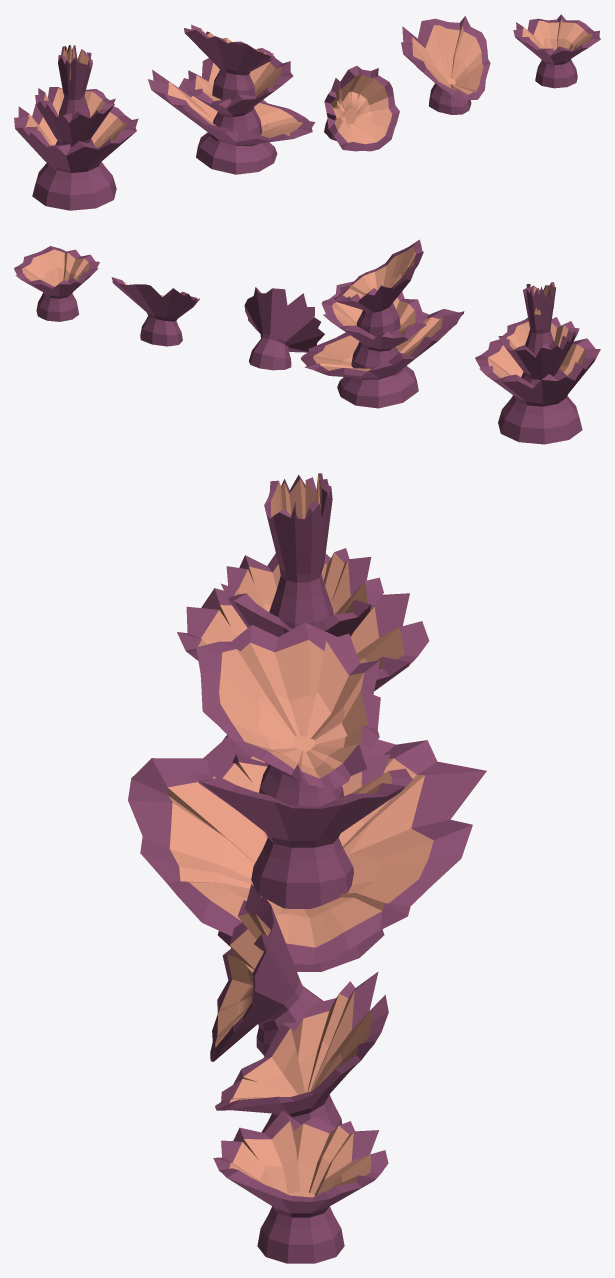
Rendered from CoralSet_01.fbx.
3 renders of one model, top to bottom at view 1: azimuth 30°, elevation 25°; view 2: azimuth 150°, elevation 25°; view 3: azimuth 270°, elevation 25°, orthographic. The views are drawn at different scales.
Visible parts, largest first — view 1: Coral_A_04, Coral_A_05, Coral_A_02, Coral_A_03, Coral_A_01; view 2: Coral_A_04, Coral_A_05, Coral_A_03, Coral_A_01, Coral_A_02; view 3: Coral_A_04, Coral_A_05, Coral_A_01, Coral_A_02, Coral_A_03.
Boxes of the visible parts, x1,y1,x2,y2 form: Coral_A_04: (148,24,315,174); Coral_A_05: (14,45,138,210); Coral_A_02: (401,16,490,114); Coral_A_03: (324,66,399,151); Coral_A_01: (513,14,600,88); Coral_A_04: (300,239,464,408); Coral_A_05: (475,282,600,444); Coral_A_03: (244,287,324,370); Coral_A_01: (14,246,99,321); Coral_A_02: (111,277,199,346); Coral_A_04: (128,622,486,971); Coral_A_05: (177,473,429,740); Coral_A_01: (213,1110,388,1263); Coral_A_02: (215,971,388,1132); Coral_A_03: (210,884,323,1061).
Size of the model in its own units: 3014 by 776 by 823.
